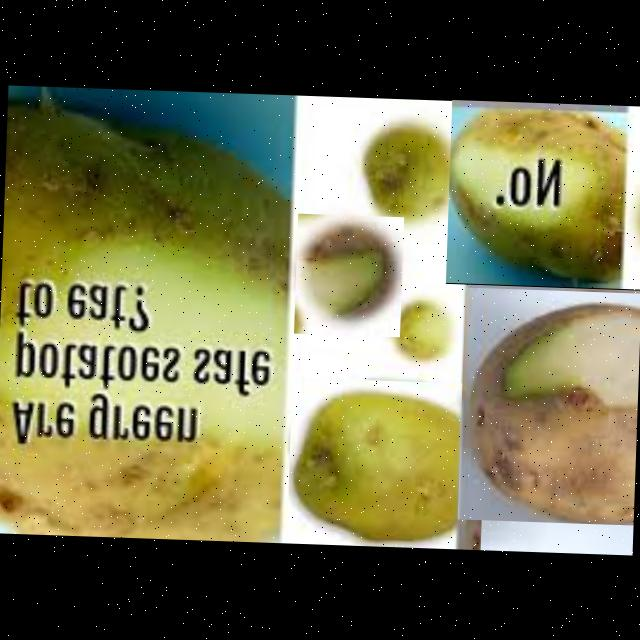Defected potato: (457, 287, 640, 525), (445, 99, 640, 290), (286, 377, 486, 550), (294, 213, 404, 337), (352, 122, 456, 240)
